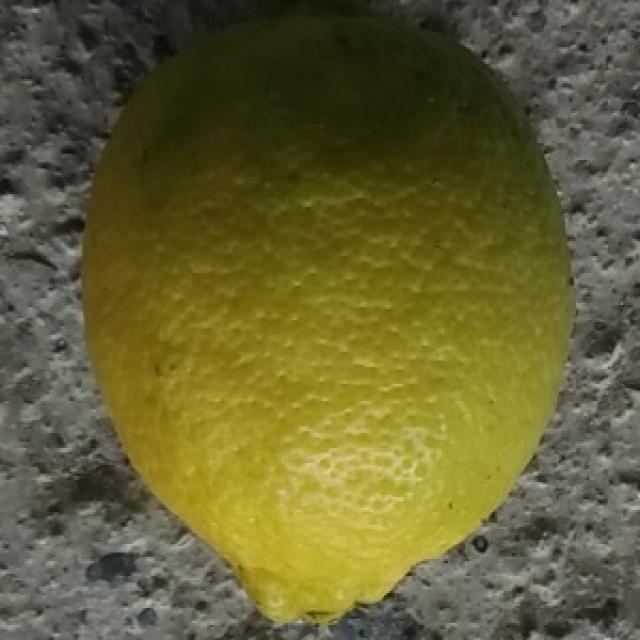Ripe: (79, 12, 582, 622)
